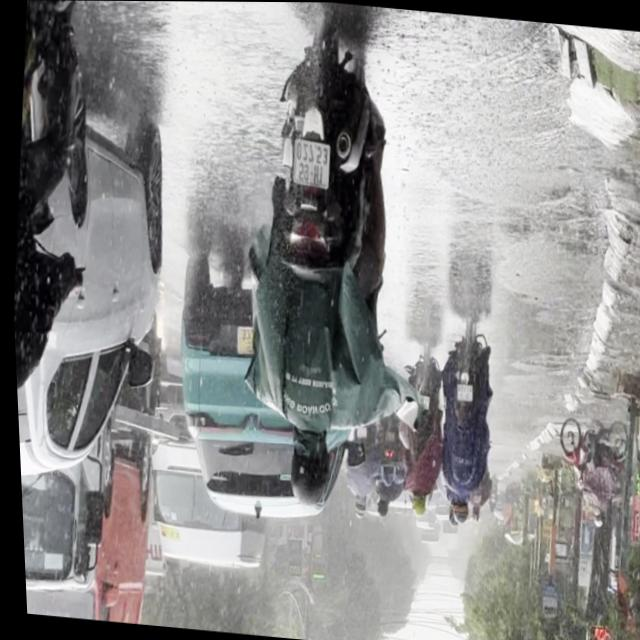helmet: (277, 432, 331, 514)
licenseplate: (214, 1, 427, 527), (0, 0, 117, 503)
nohelmet: (288, 140, 329, 188), (451, 384, 469, 403)
